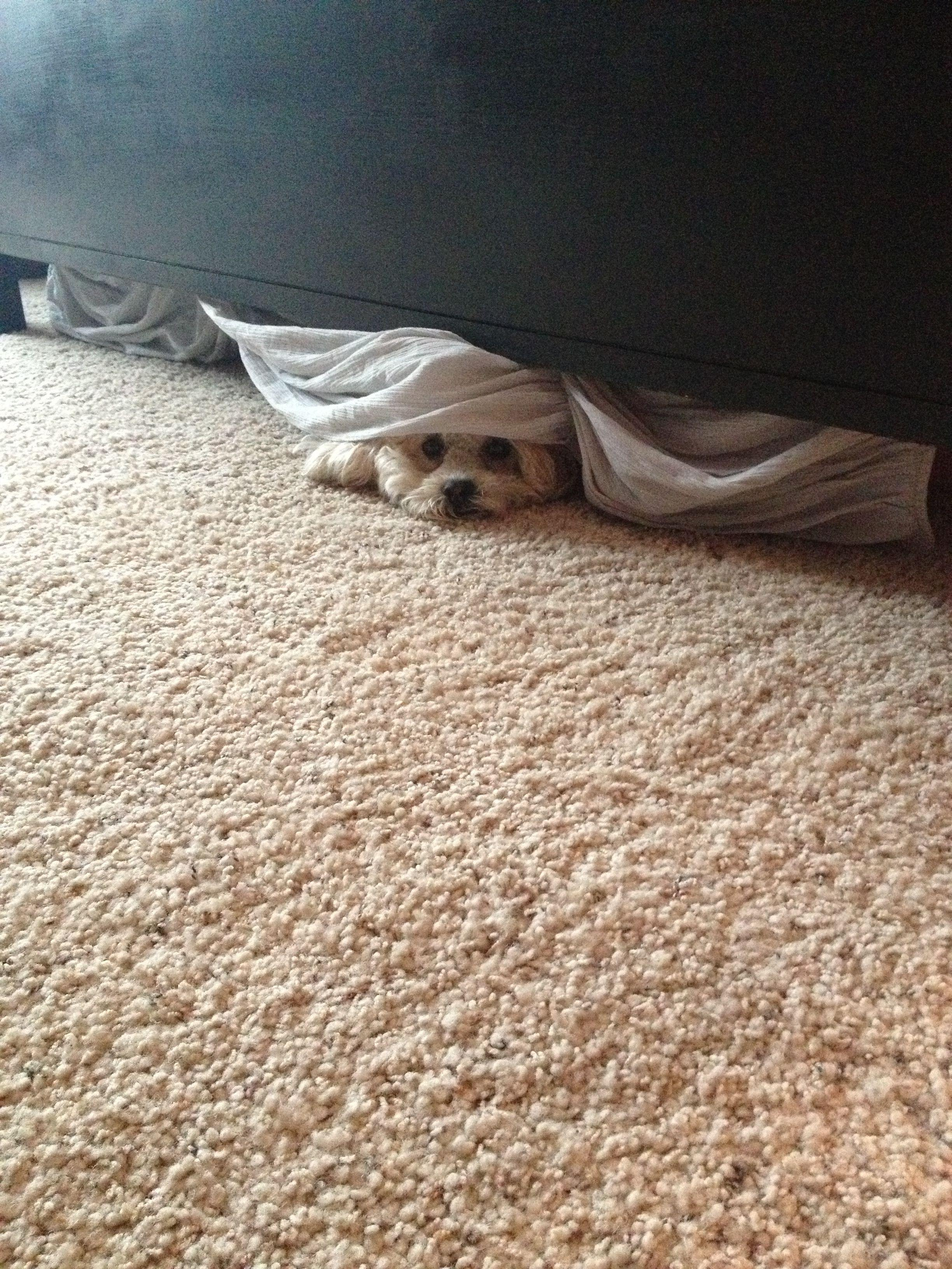adult_dog: (296, 423, 579, 529)
